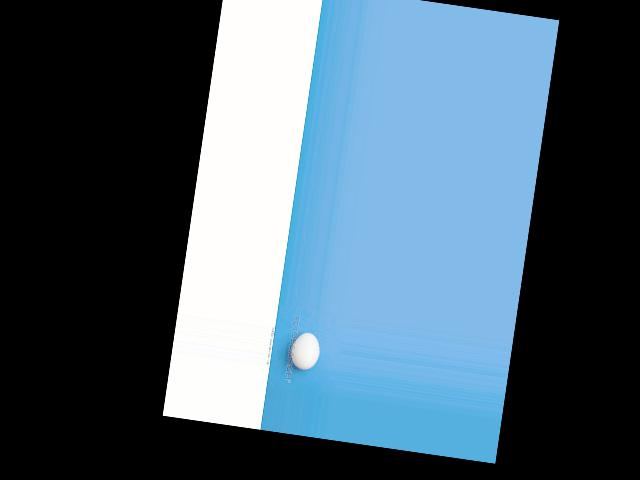egg: (287, 331, 321, 371)
